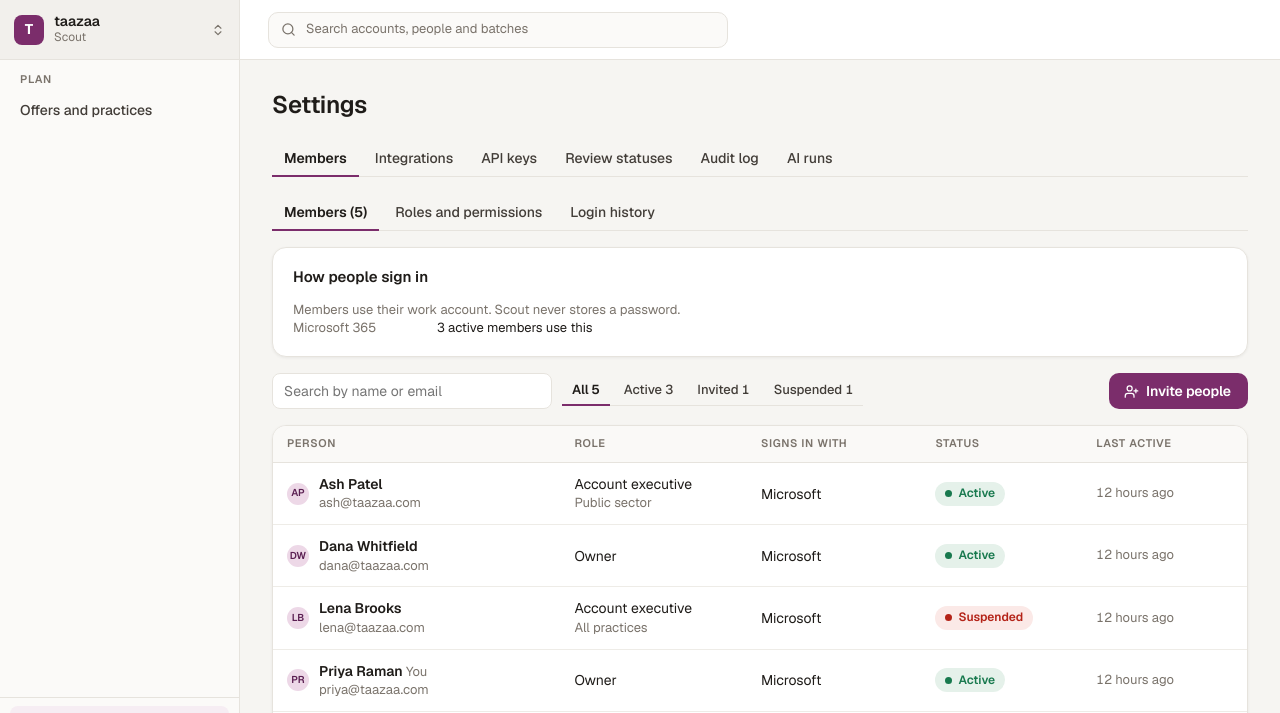
Test case: member drawer › locks the role with the reason the API gives
Click the button "Dana Whitfield": (368, 546) [319,536,418,557]
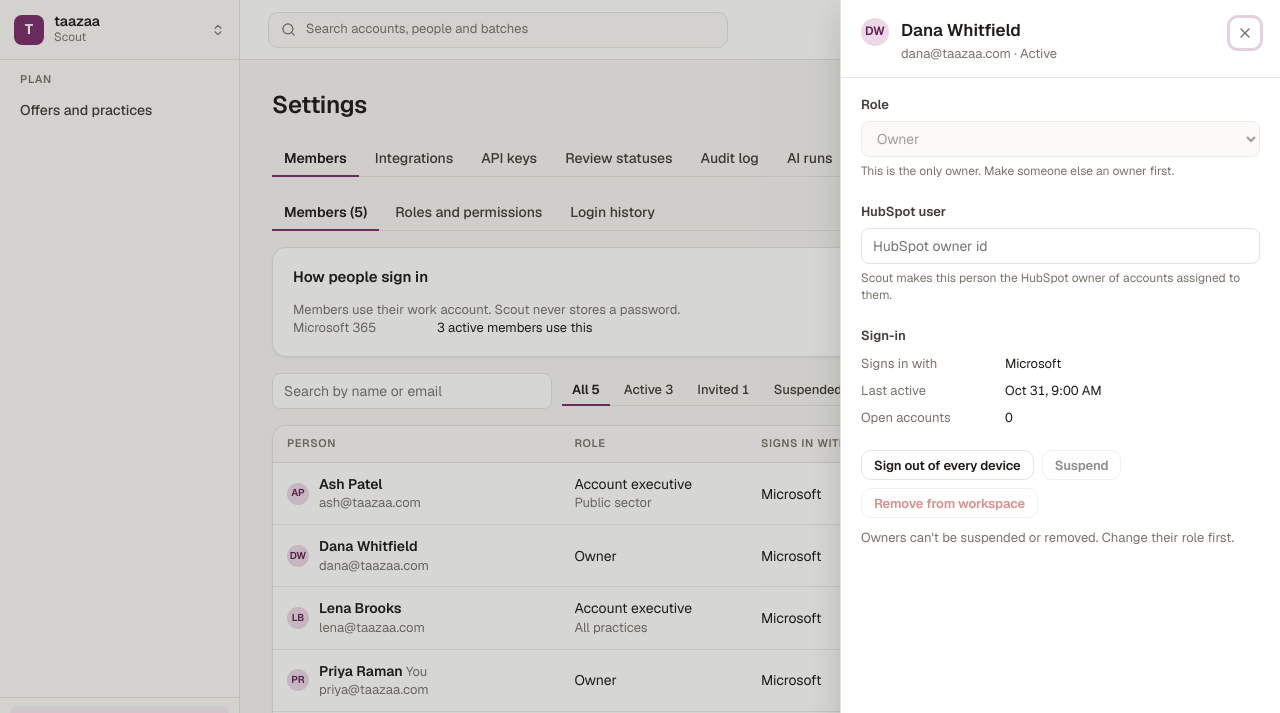
Check: the dropdown labelled "Role" is disabled, box [861,121,1260,157]
Check: the button "Suspend" is disabled, box [1042,450,1121,480]
Check: the text "Owners can't be suspended or removed. Change their role first." is shown, box [861,528,1260,548]
